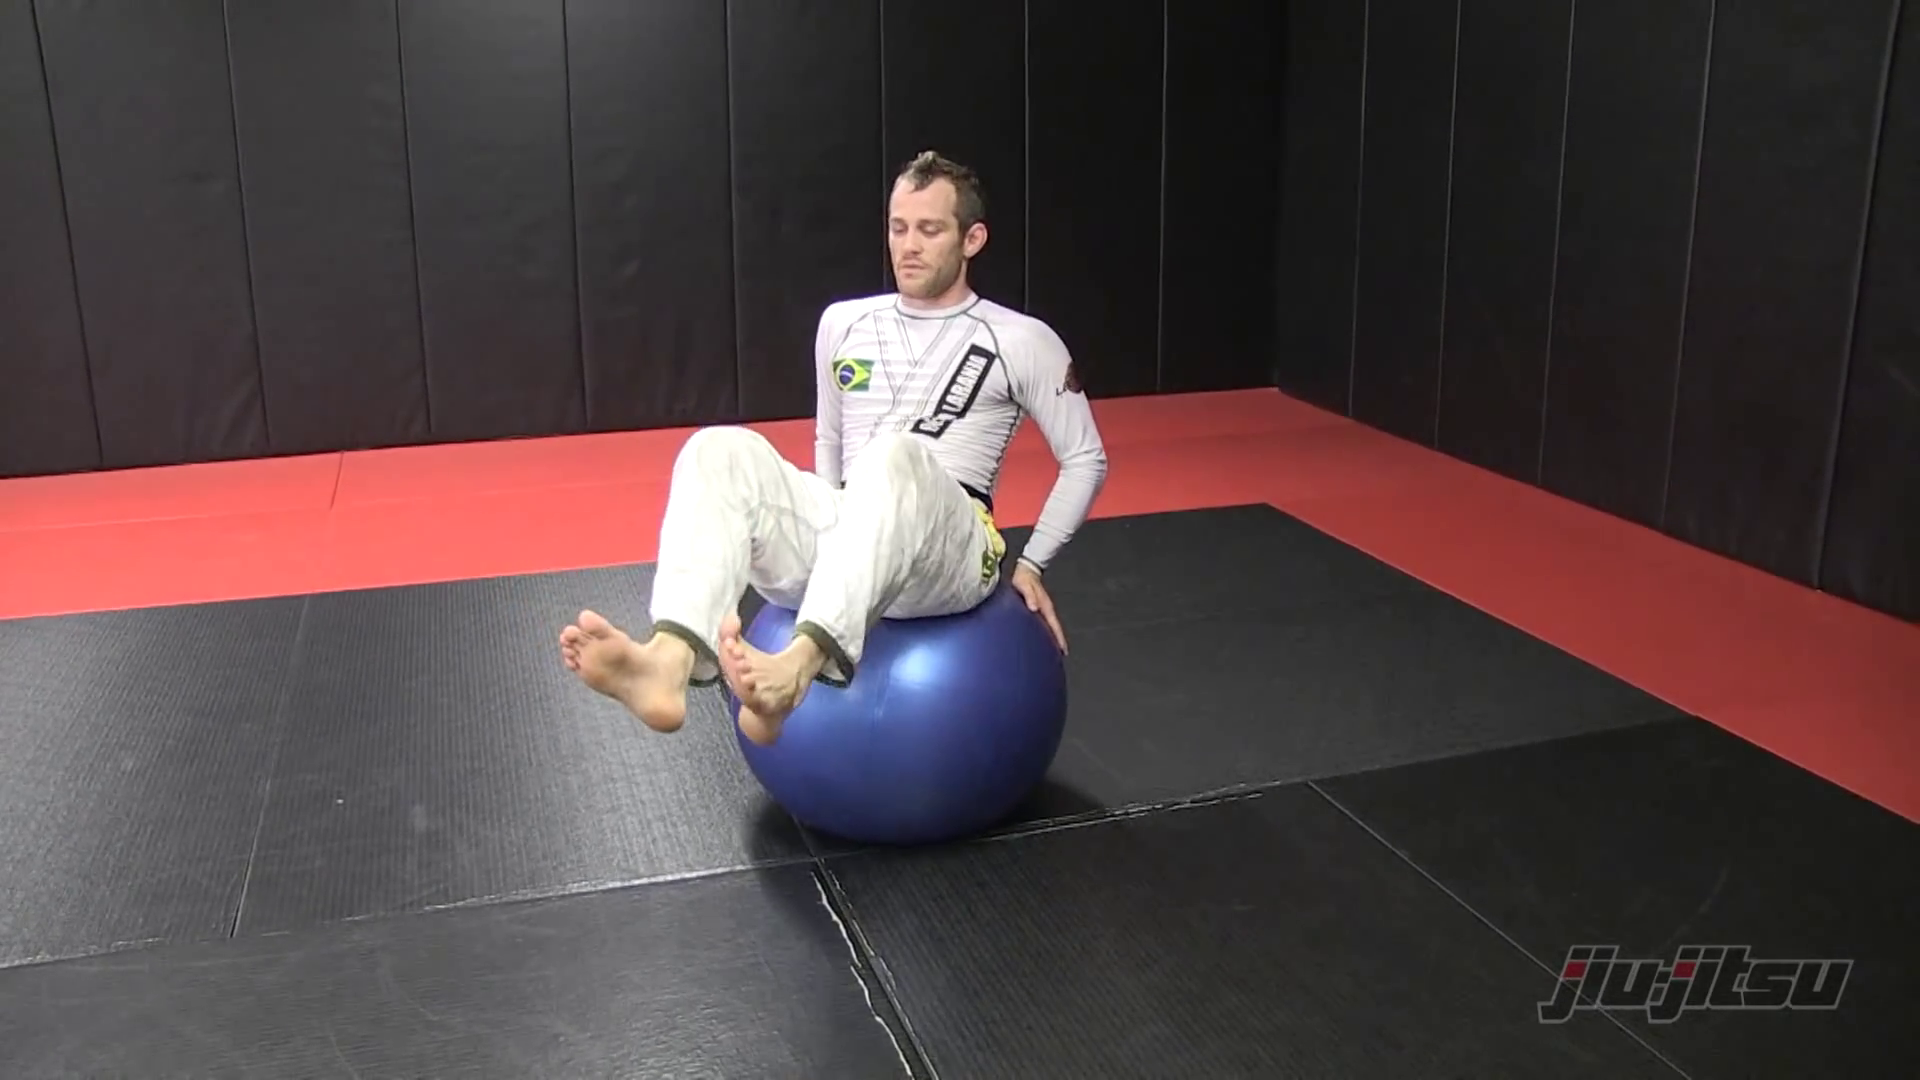yogaball: (723, 549, 1077, 862)
